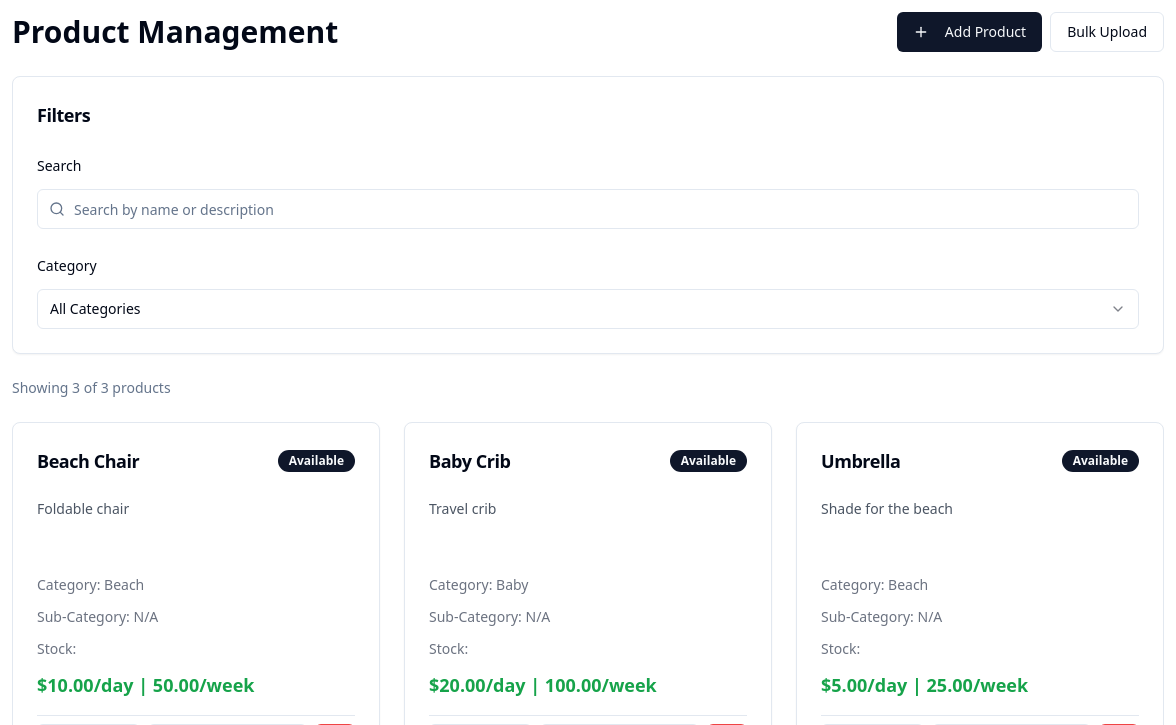
ProductManagement search › matches on description too and clears back to the full list
Expected: the heading "Umbrella" is shown, [821,447,900,475]
Type "shade" into the search field labelled "Search" at (588, 209), box [37,189,1139,229]
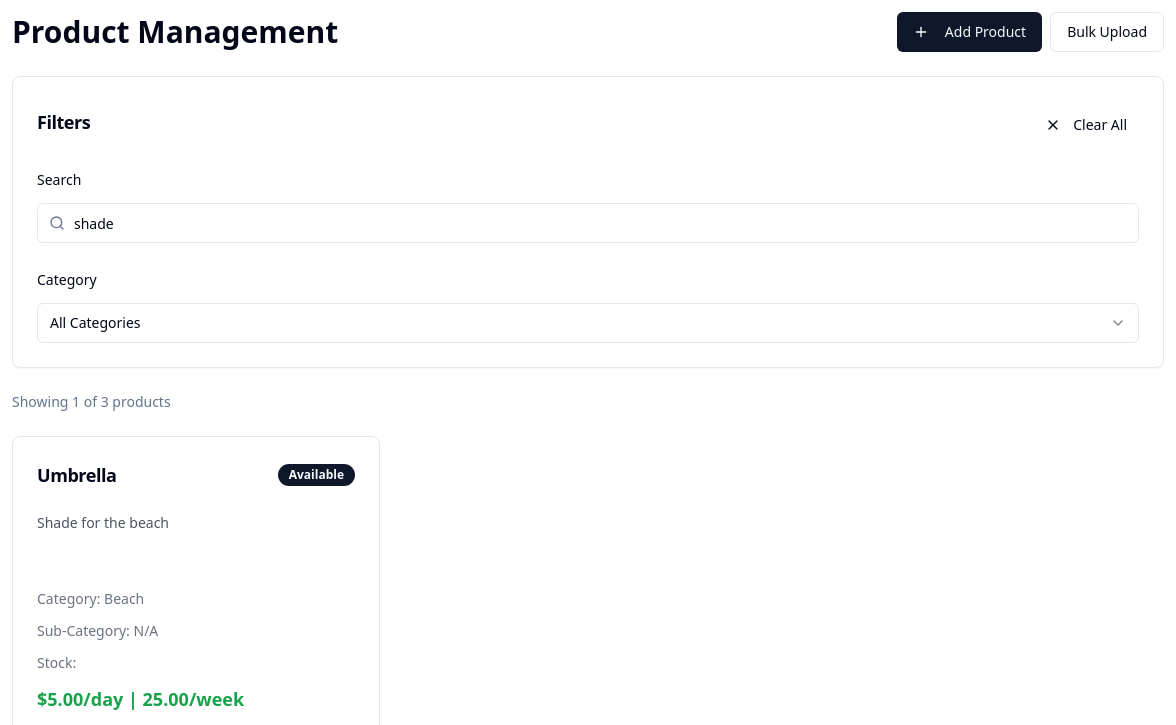
Expected: the heading "Umbrella" is shown, [37,461,116,489]
Result: the heading "Baby Crib" is gone
Click the button "Clear All" at (1086, 125), box [1033,107,1139,143]
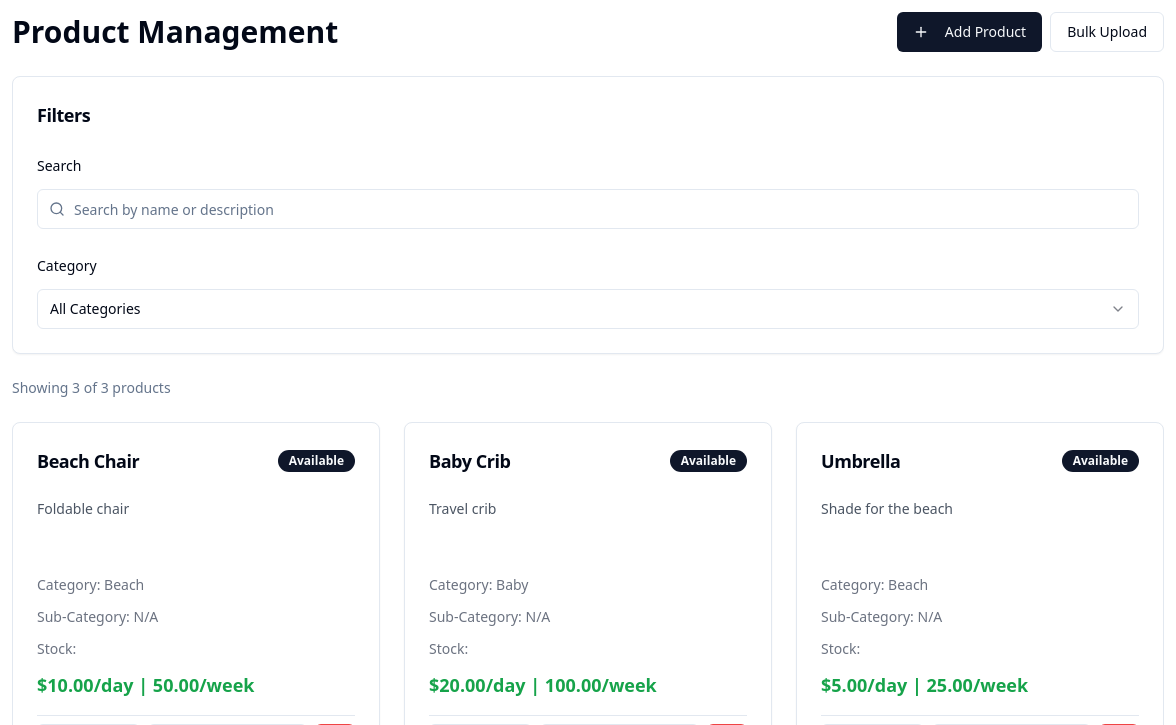
Result: the heading "Baby Crib" is shown at [429,447,510,475]
Result: the search field labelled "Search" is empty at [37,189,1139,229]
